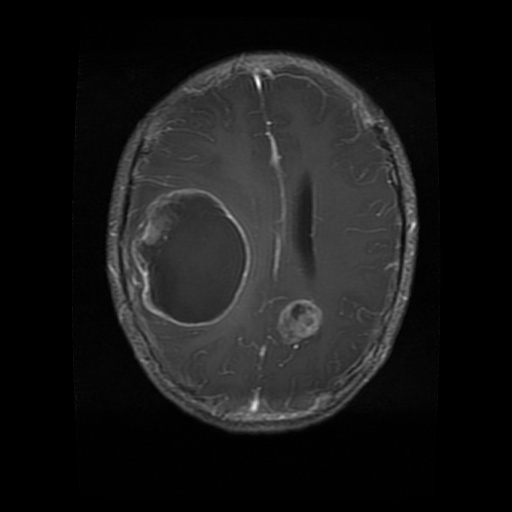glioma: (135, 191, 248, 323)
